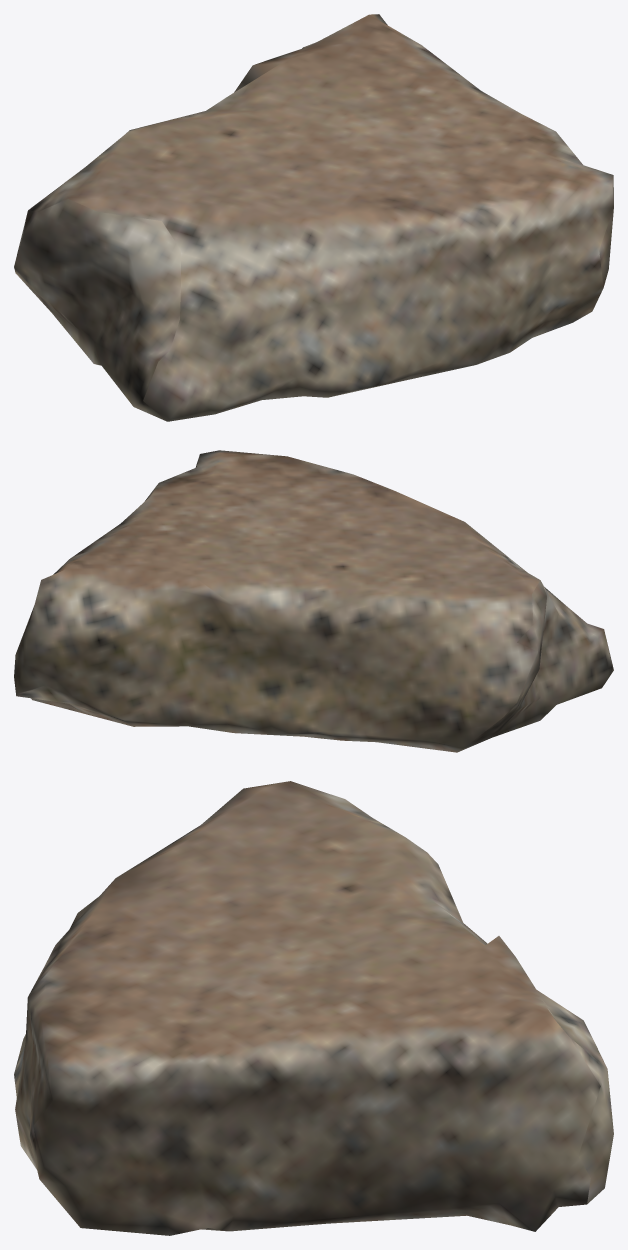
The model's file is Concrete_Rubble7.fbx.
The picture shows the model from 3 angles, top to bottom: view 1: azimuth 30°, elevation 25°; view 2: azimuth 150°, elevation 25°; view 3: azimuth 270°, elevation 25°; orthographic projection. The views are drawn at different scales.
Visible parts, largest first — view 1: Concrete_Rubble7; view 2: Concrete_Rubble7; view 3: Concrete_Rubble7.
Part boxes in pixels (left/top/right/bottom): Concrete_Rubble7: left=14, top=14, right=613, bottom=421; Concrete_Rubble7: left=14, top=450, right=613, bottom=752; Concrete_Rubble7: left=14, top=781, right=613, bottom=1235.
Bounding box in the file's own units: 7.88 × 2.61 × 6.95.
